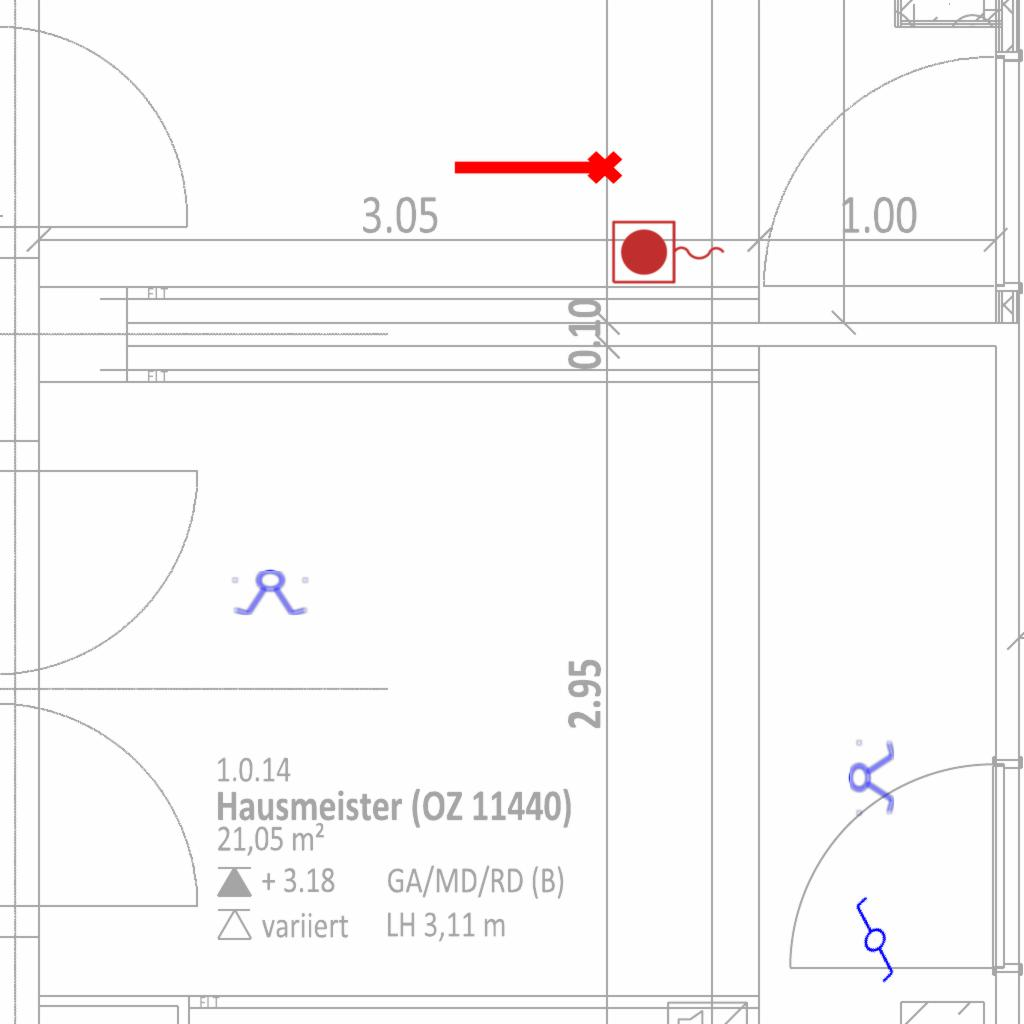ASR_Ansaugoeffnung: (449, 147, 625, 193)
Serienschalter: (848, 735, 896, 819), (229, 569, 313, 617)
Wechselschalter: (821, 891, 923, 995)
Zugtaster: (608, 217, 730, 289)
